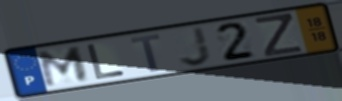2: (214, 21, 256, 63)
J: (177, 25, 214, 68)
L: (84, 42, 129, 81)
M: (37, 44, 91, 89)
T: (128, 32, 163, 74)
Z: (252, 12, 305, 59)
